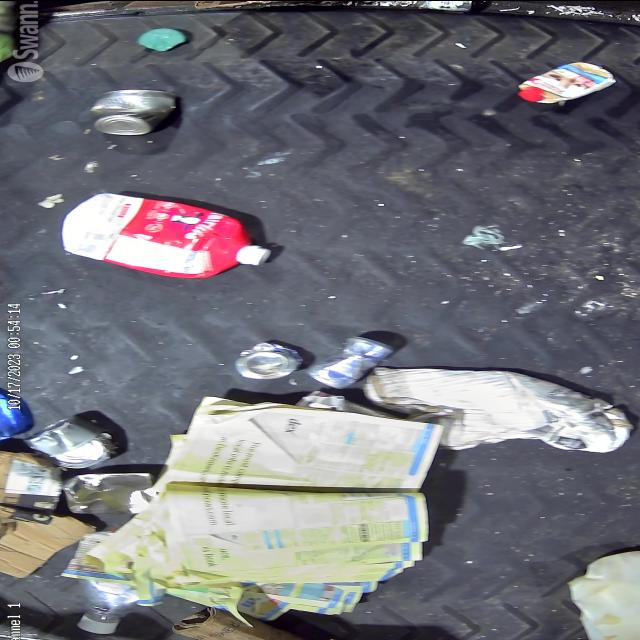can: (301, 334, 401, 390), (89, 86, 182, 135), (63, 471, 157, 514), (22, 415, 102, 456), (234, 338, 306, 376), (46, 434, 115, 467), (410, 0, 471, 12)
milk_jug: (565, 544, 640, 640)
non_white_jug: (62, 192, 270, 278)
